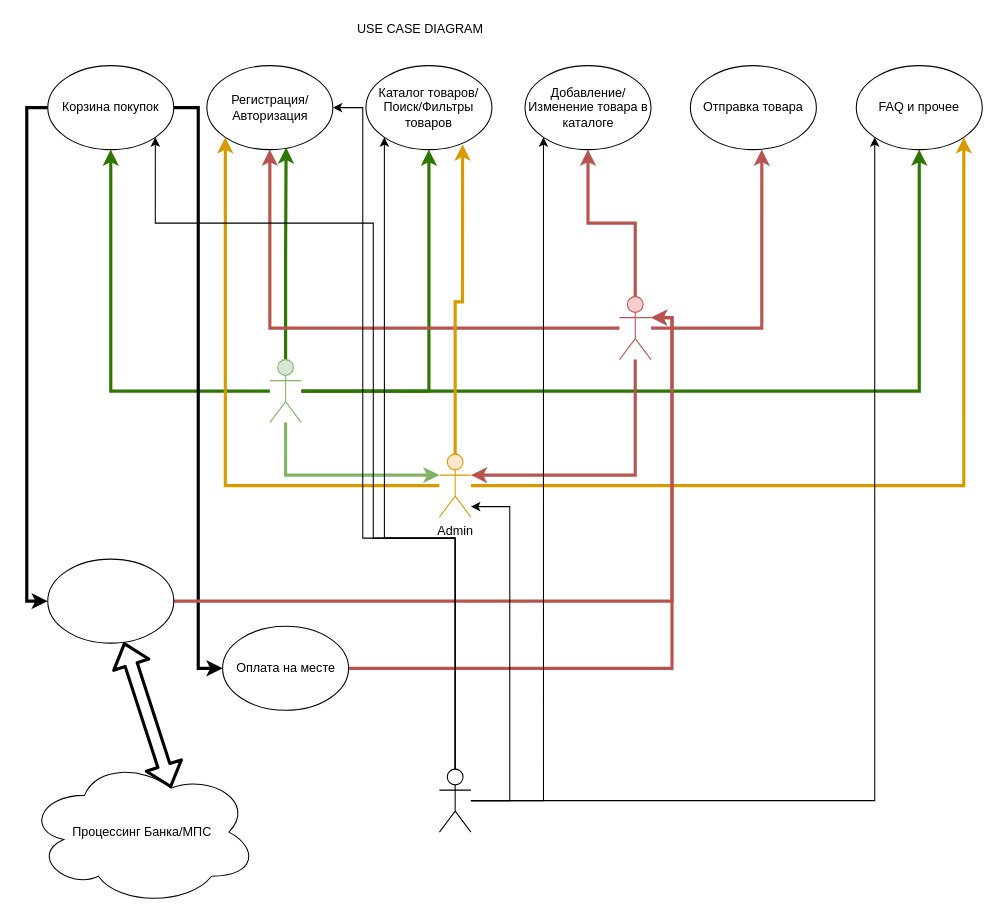
Some shapes in this 1001 by 924 pixel diagram are drawn without their labels. The shapes that lost their labels are listed below. From the top down, each one's centre as x and y in pixels, then its label:
the point at 634,328: Seller
the point at 285,391: Customer
the point at 110,600: Онлайн покупка
the point at 454,800: Developer
